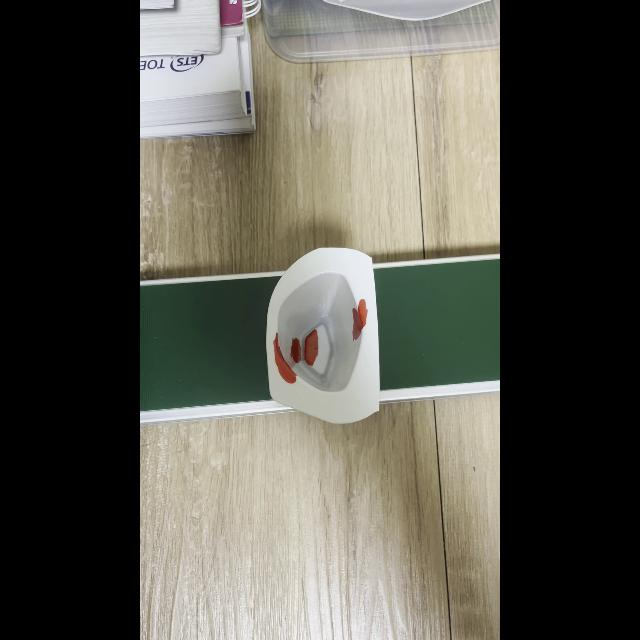dirty: (265, 248, 379, 422)
